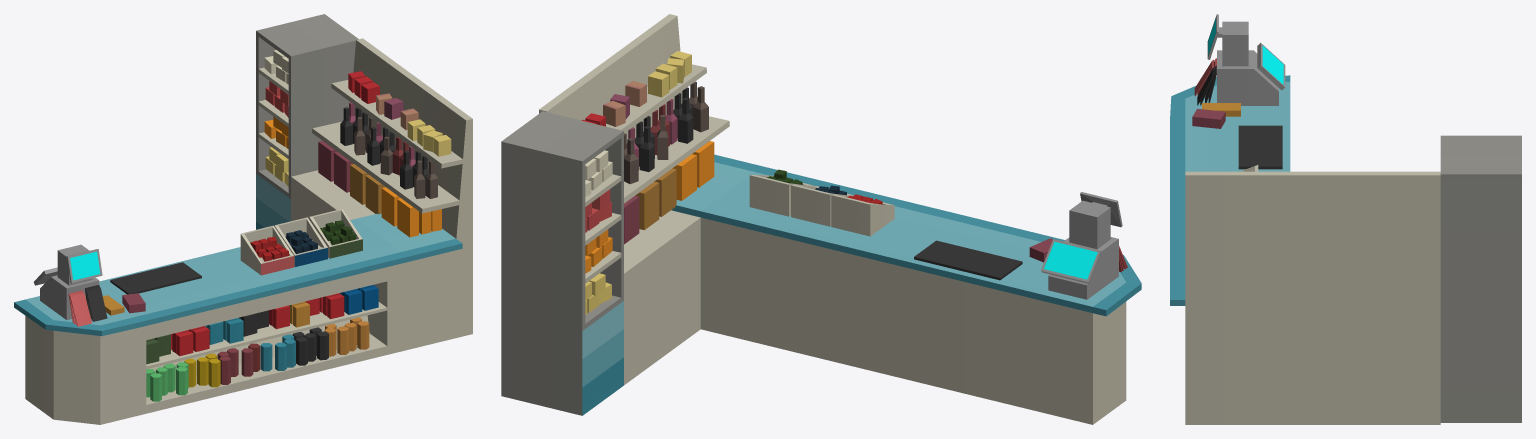
Rendered from B03_Comptoir magasin.fbx.
3 renders of one model, left to right at view 1: azimuth 30°, elevation 25°; view 2: azimuth 150°, elevation 25°; view 3: azimuth 270°, elevation 25°, orthographic. The views are drawn at different scales.
Parts seen in each view (by area): view 1: B03_Comptoir magasin; view 2: B03_Comptoir magasin; view 3: B03_Comptoir magasin.
Part boxes in pixels (left/top/right/bottom): B03_Comptoir magasin: left=14, top=14, right=472, bottom=424; B03_Comptoir magasin: left=501, top=14, right=1141, bottom=424; B03_Comptoir magasin: left=1170, top=14, right=1521, bottom=424.
Bounding box in the file's own units: 701 × 348 × 445.
